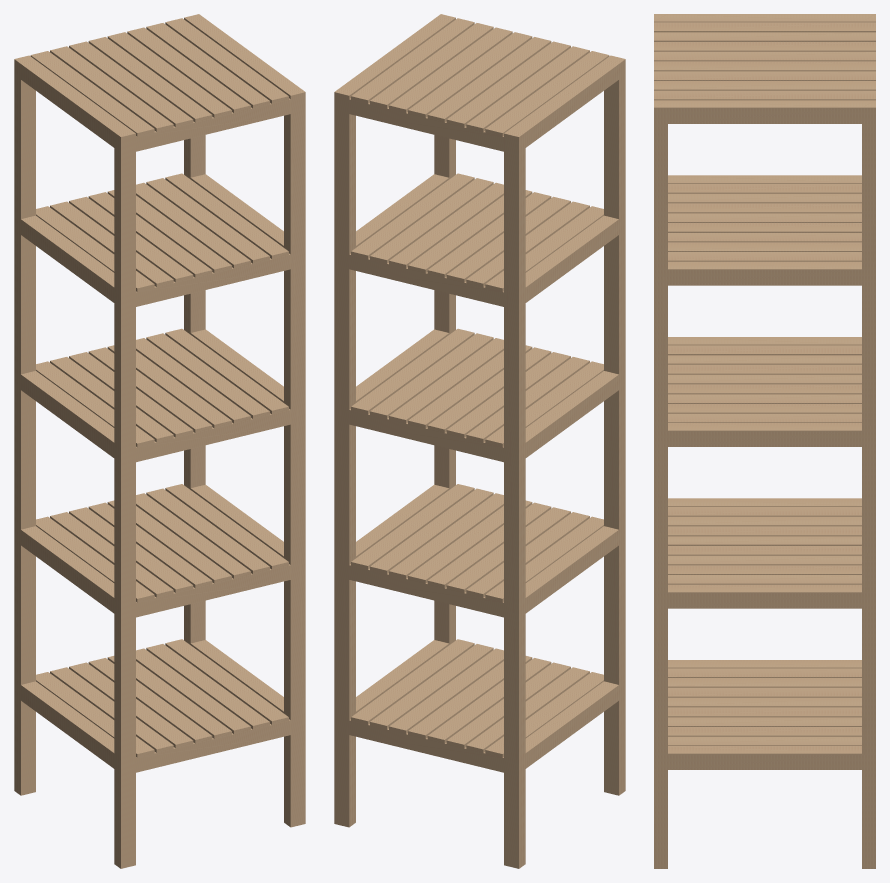
Rendered from MOLGER_Shelf.obj.
3 renders of one model, left to right at view 1: azimuth 30°, elevation 25°; view 2: azimuth 150°, elevation 25°; view 3: azimuth 270°, elevation 25°, orthographic. The views are drawn at different scales.
Parts seen in each view (by area): view 1: Generic_Models; view 2: Generic_Models; view 3: Generic_Models.
Part boxes in pixels (x1=…): Generic_Models: x1=14, y1=14, x2=305, y2=868; Generic_Models: x1=334, y1=14, x2=625, y2=868; Generic_Models: x1=654, y1=14, x2=875, y2=868.
Bounding box in the file's own units: 370 × 1400 × 370.
